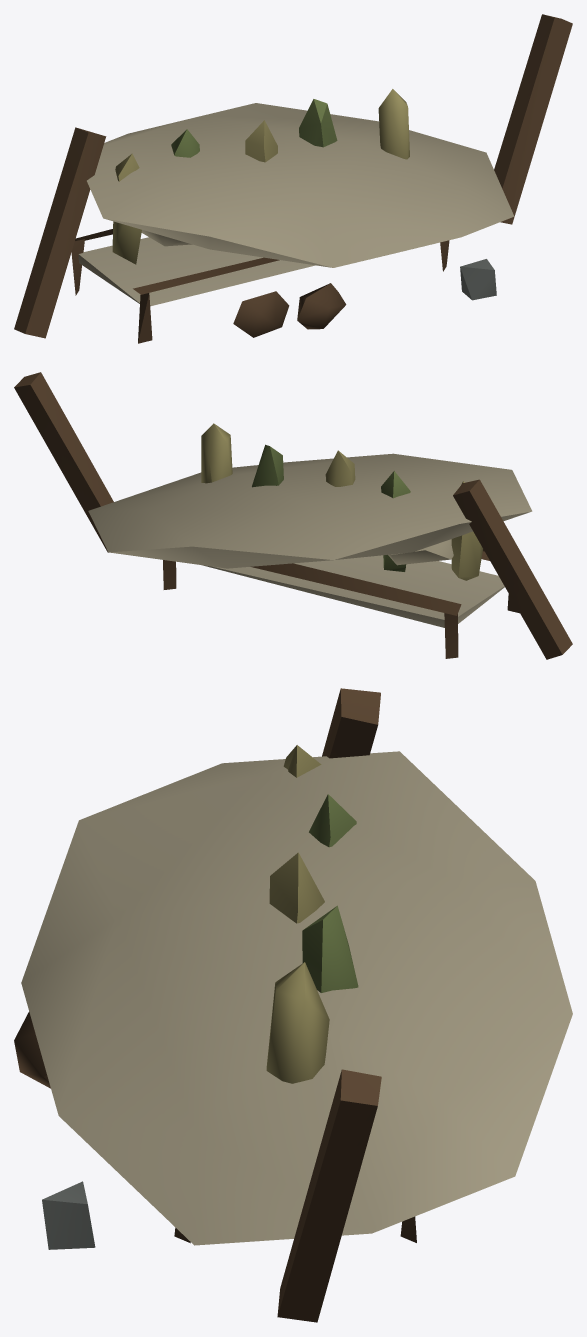
The model's file is bunk_cots_c_lod2.glb.
The picture shows the model from 3 angles, top to bottom: view 1: azimuth 30°, elevation 25°; view 2: azimuth 150°, elevation 25°; view 3: azimuth 270°, elevation 25°; orthographic projection. The views are drawn at different scales.
Parts seen in each view (by area): view 1: Surface.001; view 2: Surface.001; view 3: Surface.001.
Part boxes in pixels (x1,y1,x2,y2): Surface.001: (14, 14, 572, 343); Surface.001: (14, 372, 572, 659); Surface.001: (14, 688, 572, 1322).
Size of the model in its own units: 3.39 by 1.04 by 1.73.
